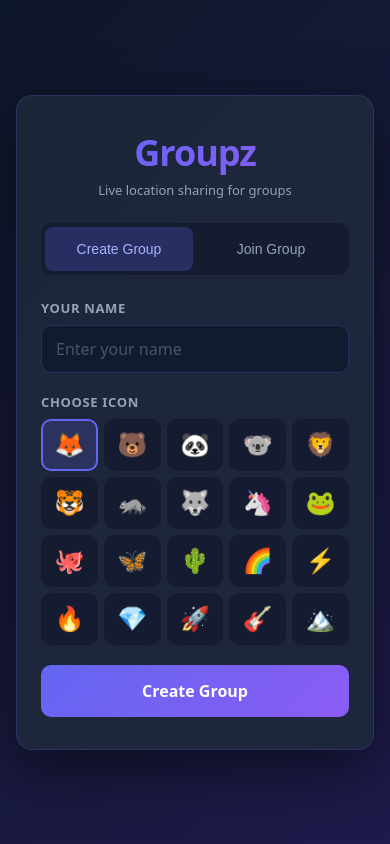
it: Home — tabs and validation › switching tabs clears any existing error message
Click the submit button at (195, 691), box [41, 665, 349, 717]
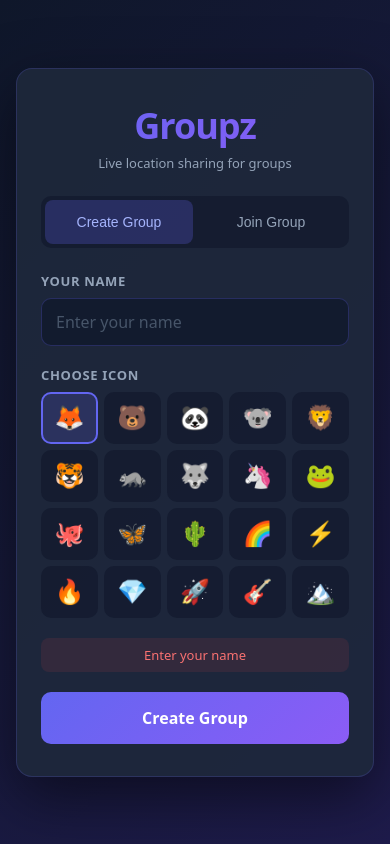
Expected: the text "Enter your name" is shown, [41, 638, 349, 672]
Click the button "Join Group" at (271, 222), box [197, 200, 345, 244]
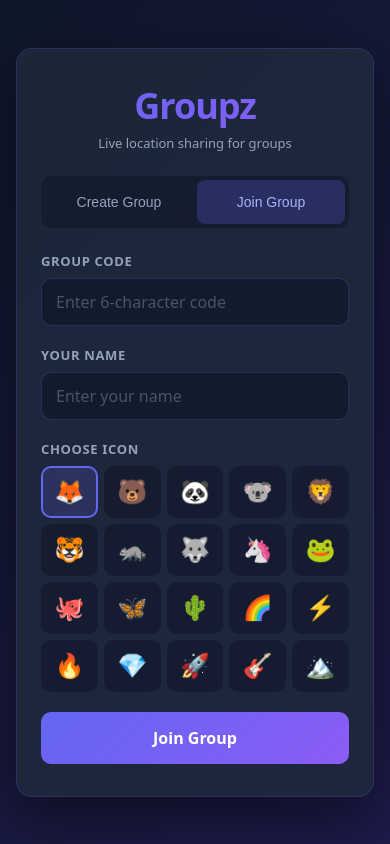
Expected: the text "Enter your name" is gone
